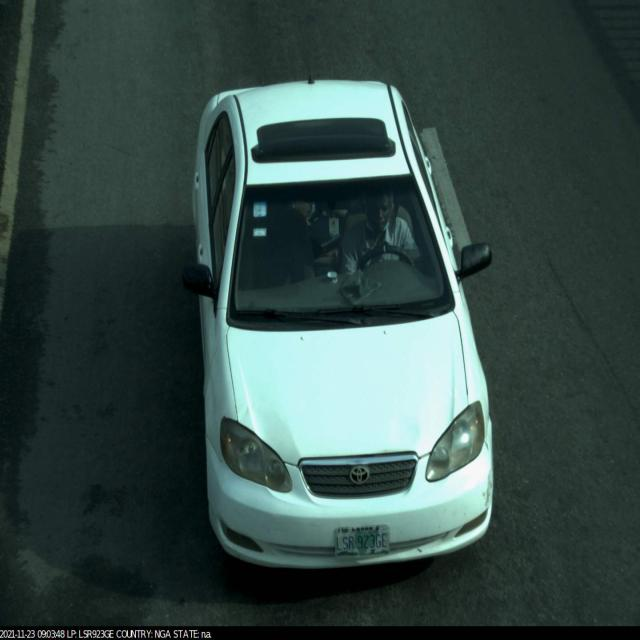windshield: (217, 160, 473, 347)
